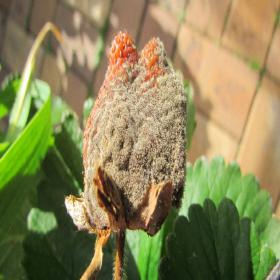Gray Mold: (62, 30, 188, 238)
